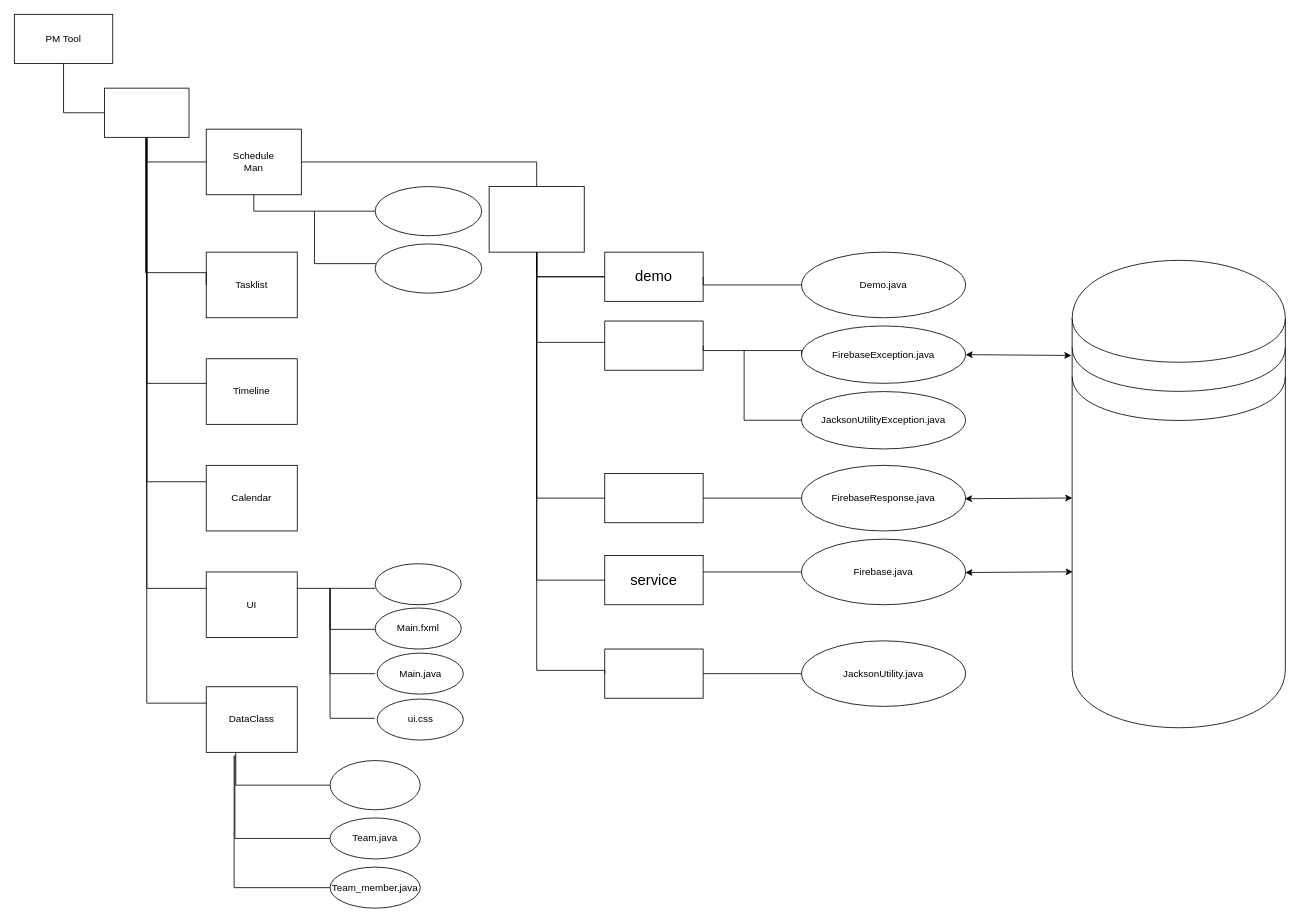
This 1300x923 diagram has some shape labels left out. Each missing label, with the box of its shape:
Controller.java: (374, 563, 461, 605)
error: (604, 320, 703, 370)
Firebase remote DB: (1071, 260, 1285, 728)
firebase4j: (488, 186, 584, 252)
ManageGUI.java: (374, 186, 482, 236)
model: (604, 473, 703, 523)
ScheduleManage.java: (374, 243, 482, 293)
src/main/java: (104, 87, 189, 137)
Task.java: (329, 760, 420, 810)
util: (604, 648, 703, 698)
